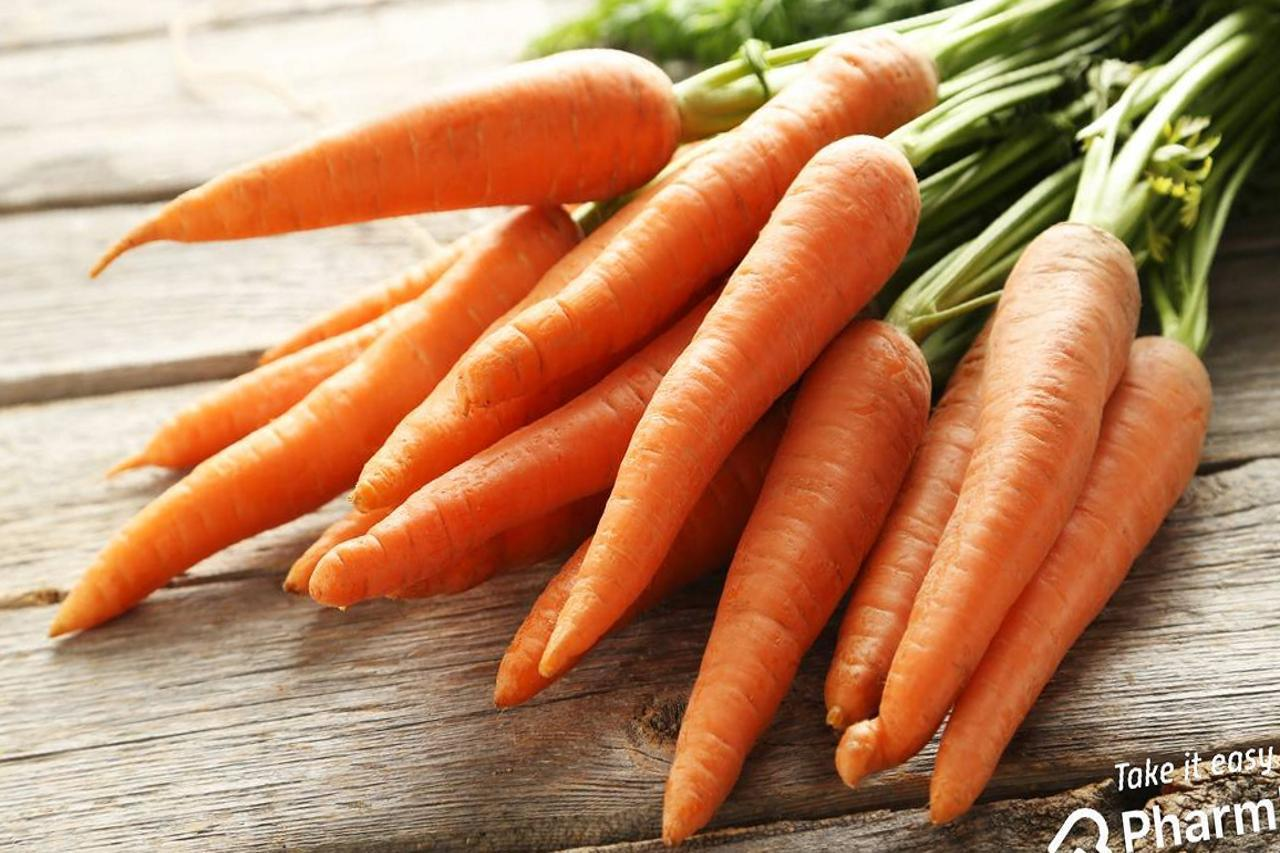carrot: (59, 55, 848, 805), (853, 193, 1237, 810), (79, 290, 888, 568), (63, 39, 763, 275)
